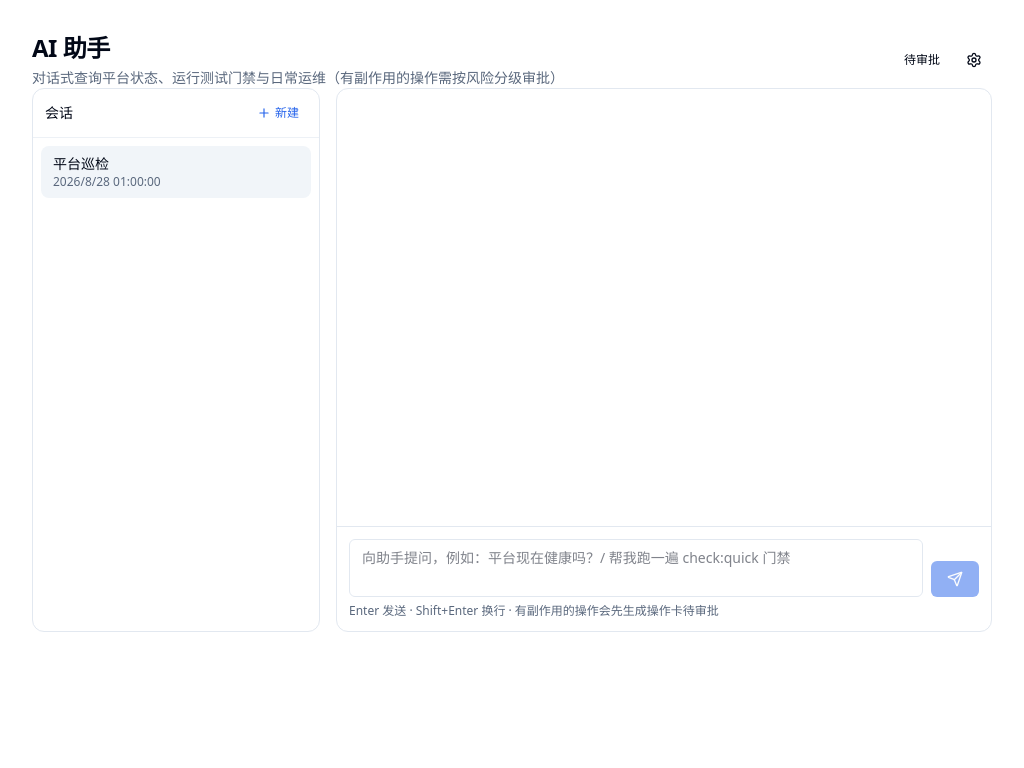
Test: AssistantPage › code=ai_not_configured 且 message 为人话时仍显示引导横幅（#1226）
Type "你好" into the text box named "消息输入框" at (636, 568), box left=349, top=539, right=923, bottom=597
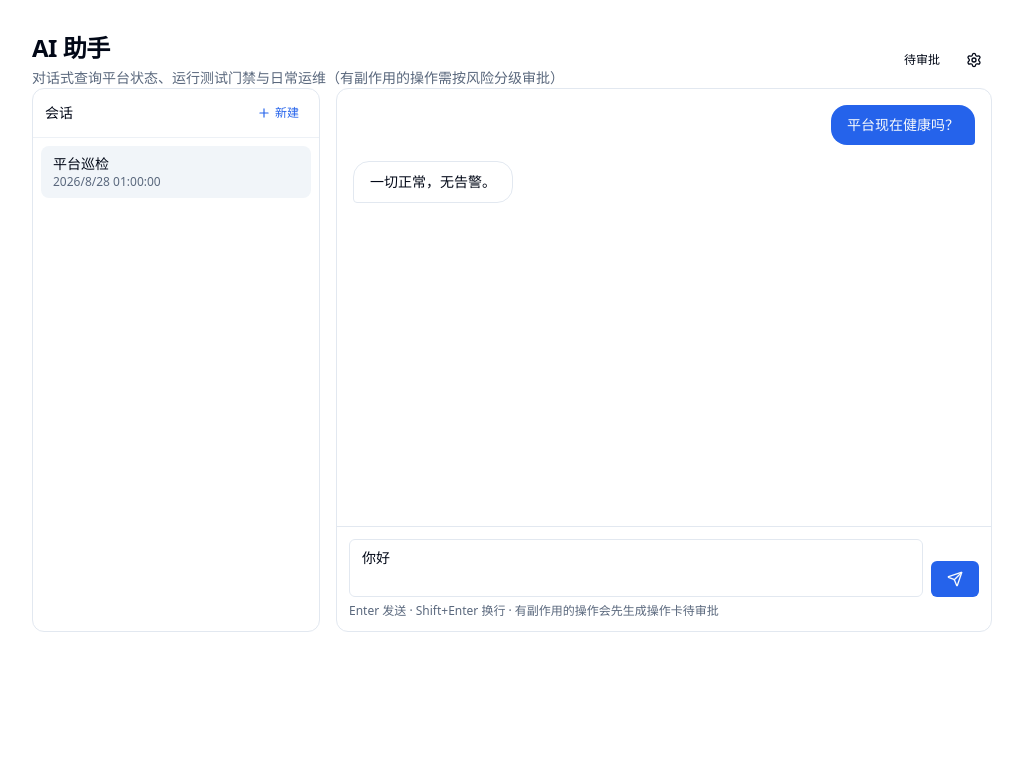
Press Enter in the text box named "消息输入框", box left=349, top=539, right=923, bottom=597
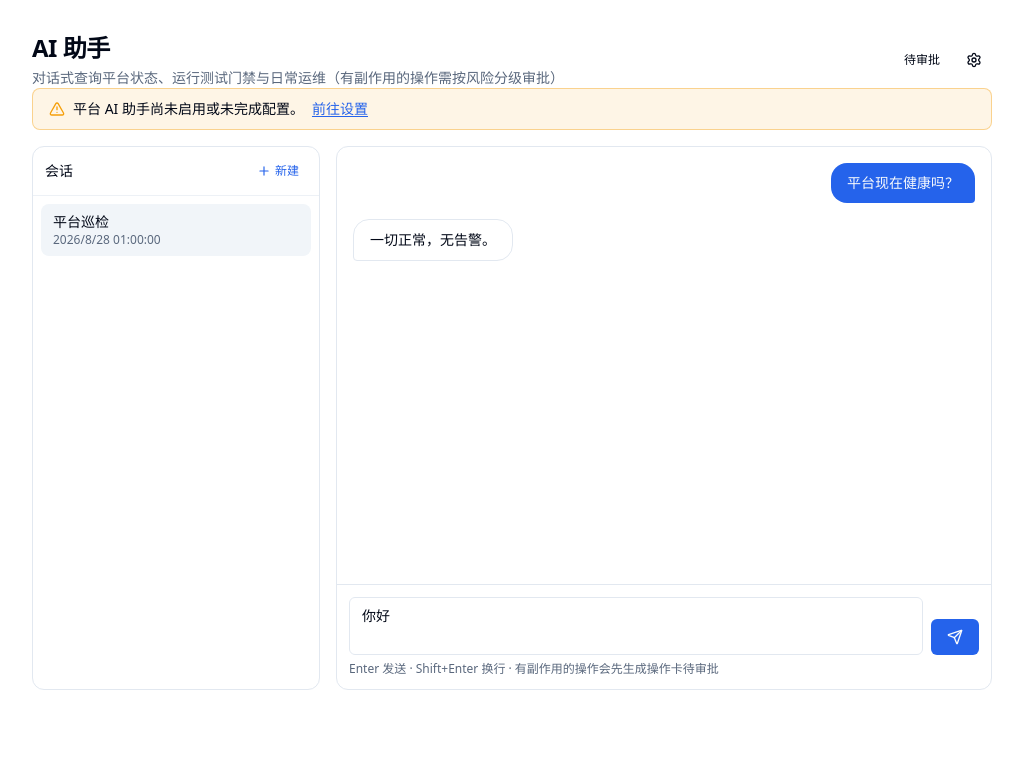
Result: the text "平台 AI 助手尚未启用或未完成配置。 前往设置" is shown at left=32, top=88, right=992, bottom=130
Result: the link "前往设置" is shown at left=312, top=99, right=368, bottom=119
